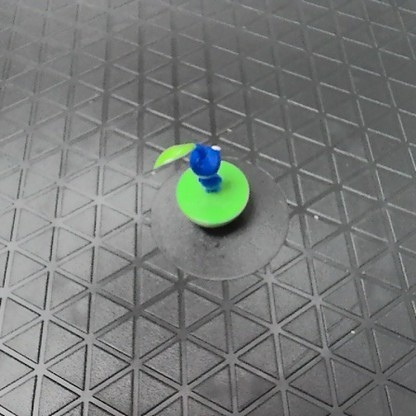leafairy: (151, 137, 253, 233)
